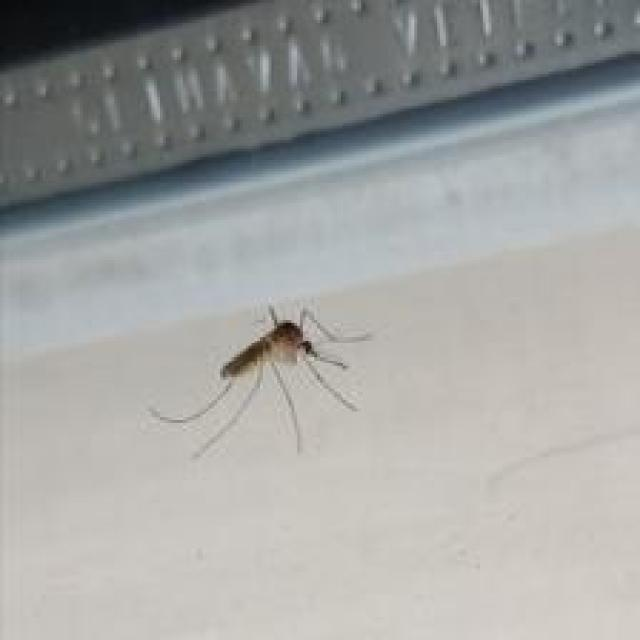Culex: (147, 302, 373, 462)
